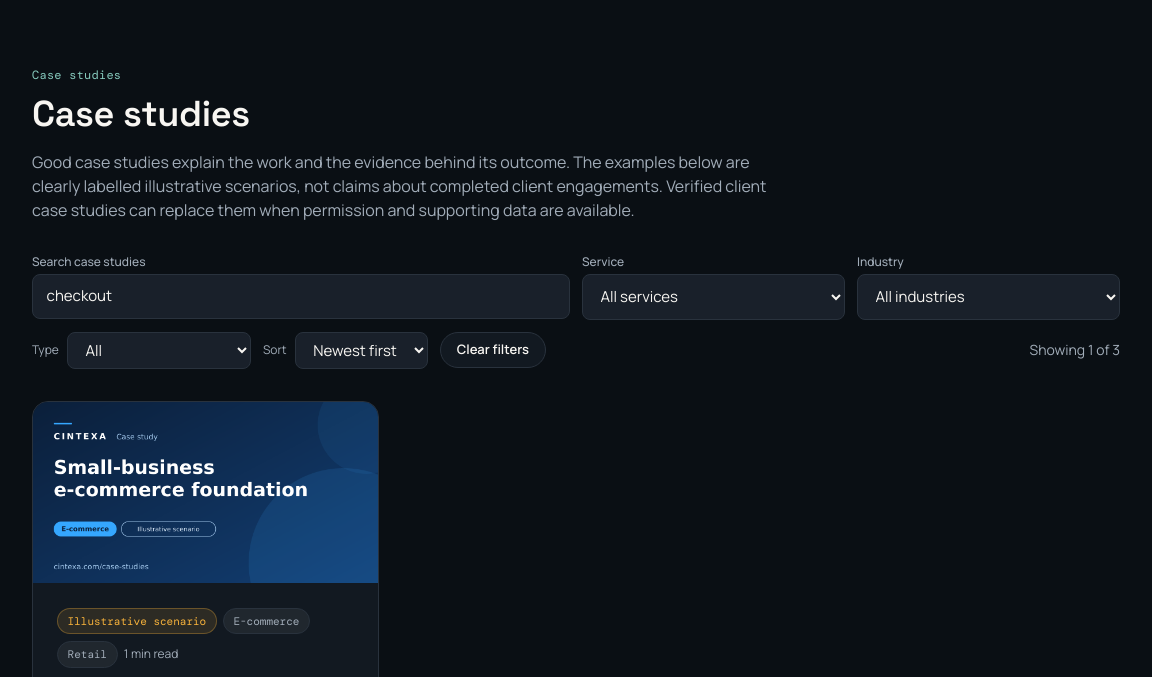
Test case: /case-studies list › opens a filtered view from a shared link, and shows an empty state
The image size is (1152, 677).
Replace the text in the search field with "astronaut": (301, 296) [32,274,570,319]
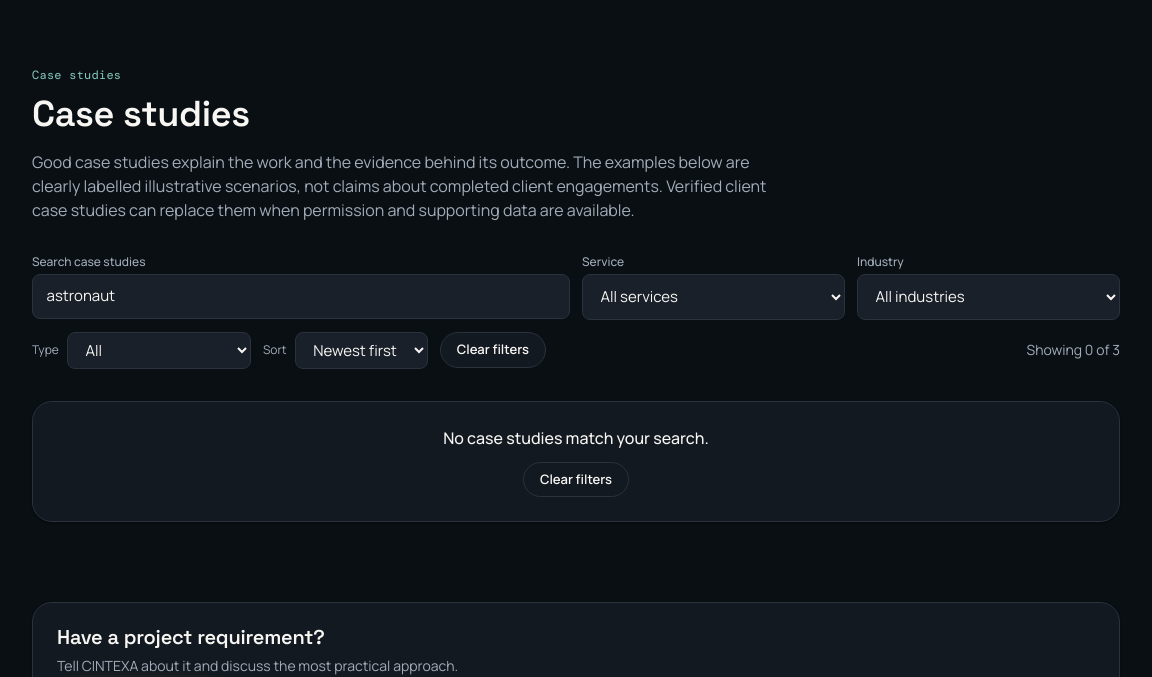
Result: the text "No case studies match your search." is shown at [443,427,709,449]
Click the button "Clear filters" next to "Sort": (493, 350) [440,332,546,368]
(page scrolled)
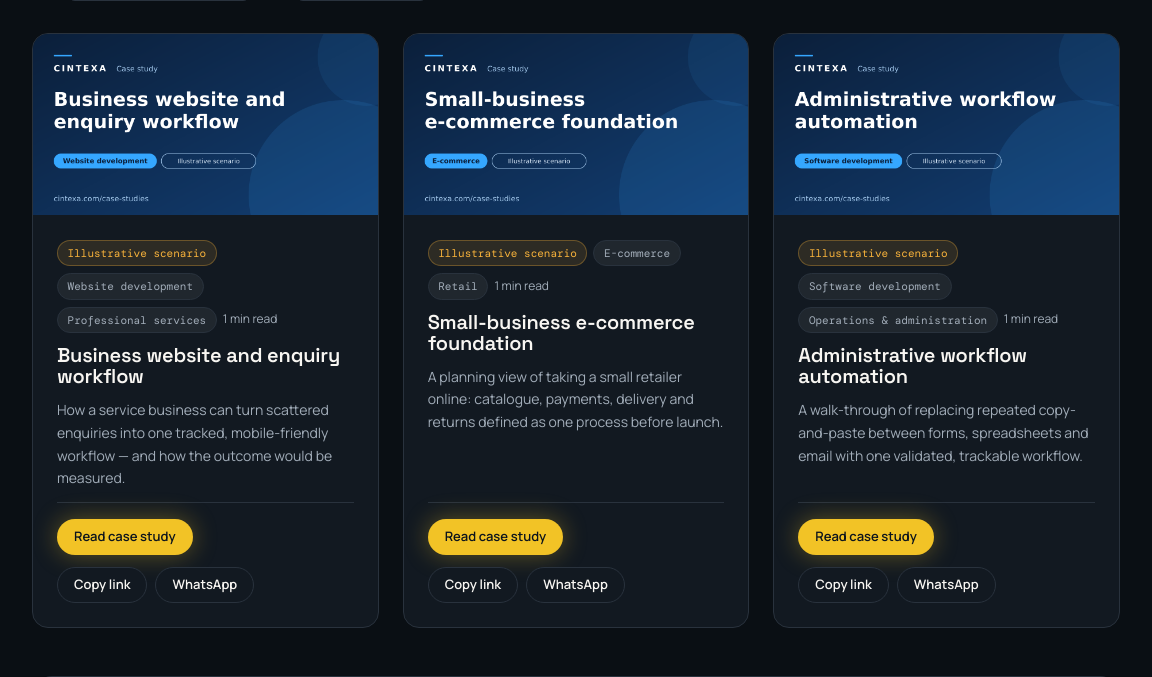
Result: the element with id "business-website-enquiry-workflow" is shown at [32,33,379,628]
